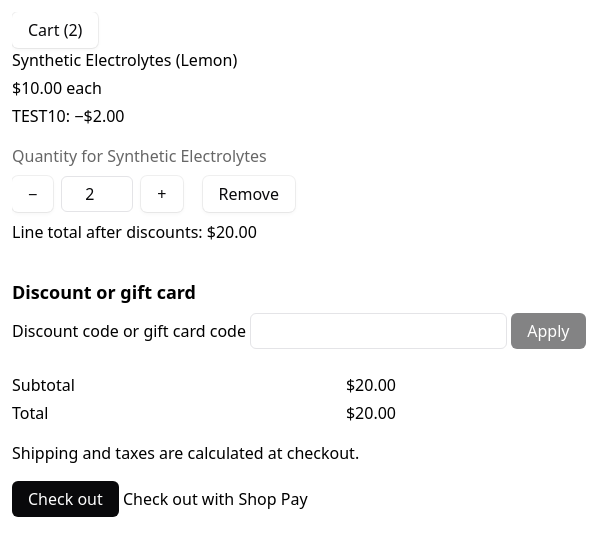
Test case: cart › removes a line
The image size is (603, 534).
Expected: the button with aria-label "Cart, 2 items" is shown, [12, 12, 98, 48]
Step 1. Click the button with aria-label "Remove Synthetic Electrolytes" → [249, 194], box [202, 176, 295, 212]
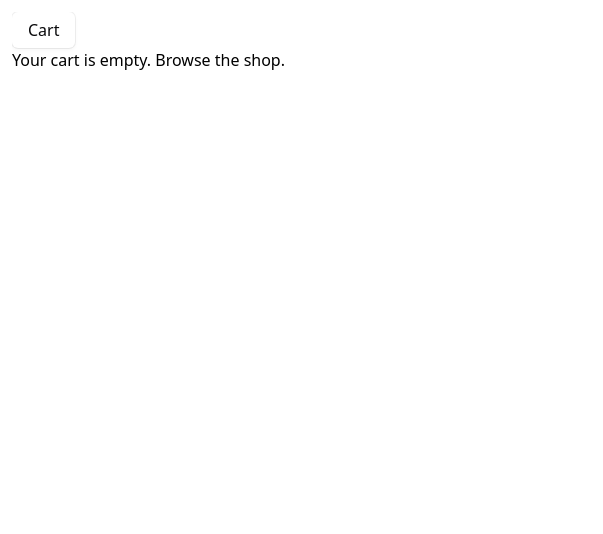
Now the text "Your cart is empty. Browse the shop ." is shown, box [12, 49, 285, 71]
